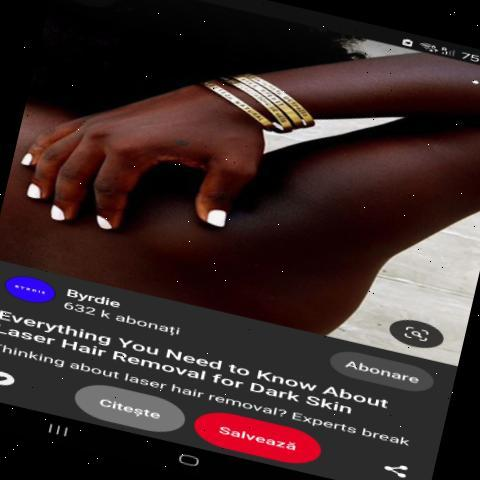Hands: (22, 70, 272, 256)
